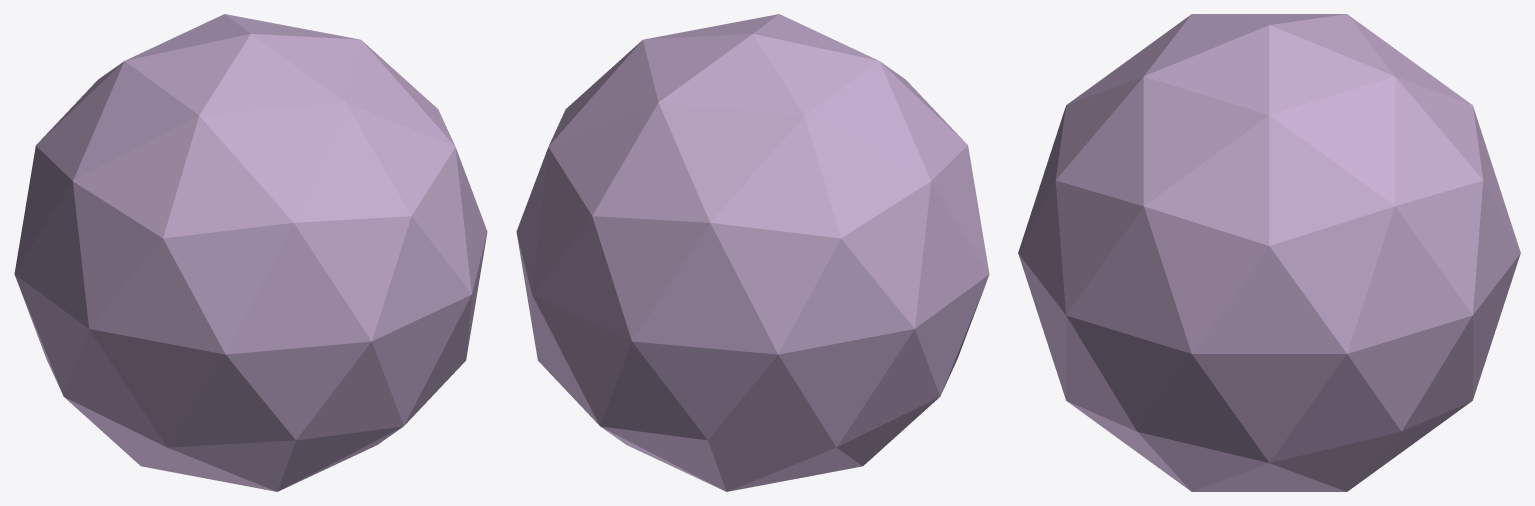
Rendered from NaturalKillerCell.glb.
3 renders of one model, left to right at view 1: azimuth 30°, elevation 25°; view 2: azimuth 150°, elevation 25°; view 3: azimuth 270°, elevation 25°, orthographic. The views are drawn at different scales.
Visible parts, largest first — view 1: NeutrophilMembrane; view 2: NeutrophilMembrane; view 3: NeutrophilMembrane.
Boxes of the visible parts, x1,y1,x2,y2 form: NeutrophilMembrane: (14, 14, 487, 491); NeutrophilMembrane: (516, 14, 989, 491); NeutrophilMembrane: (1018, 14, 1520, 491).
Bounding box in the file's own units: 1.9 × 2 × 2.
